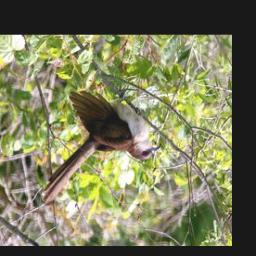Cuckoo: (68, 85, 162, 209)
